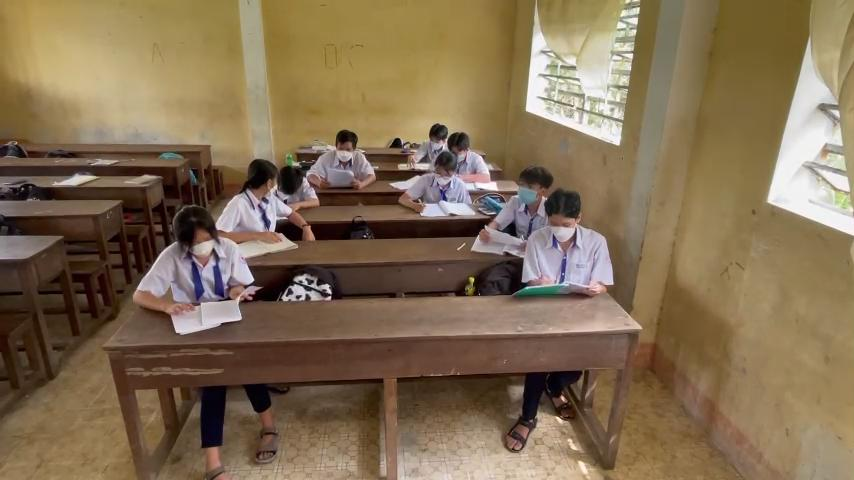Hand Under Table: (452, 174, 474, 211)
Look Around: (242, 150, 280, 205)
